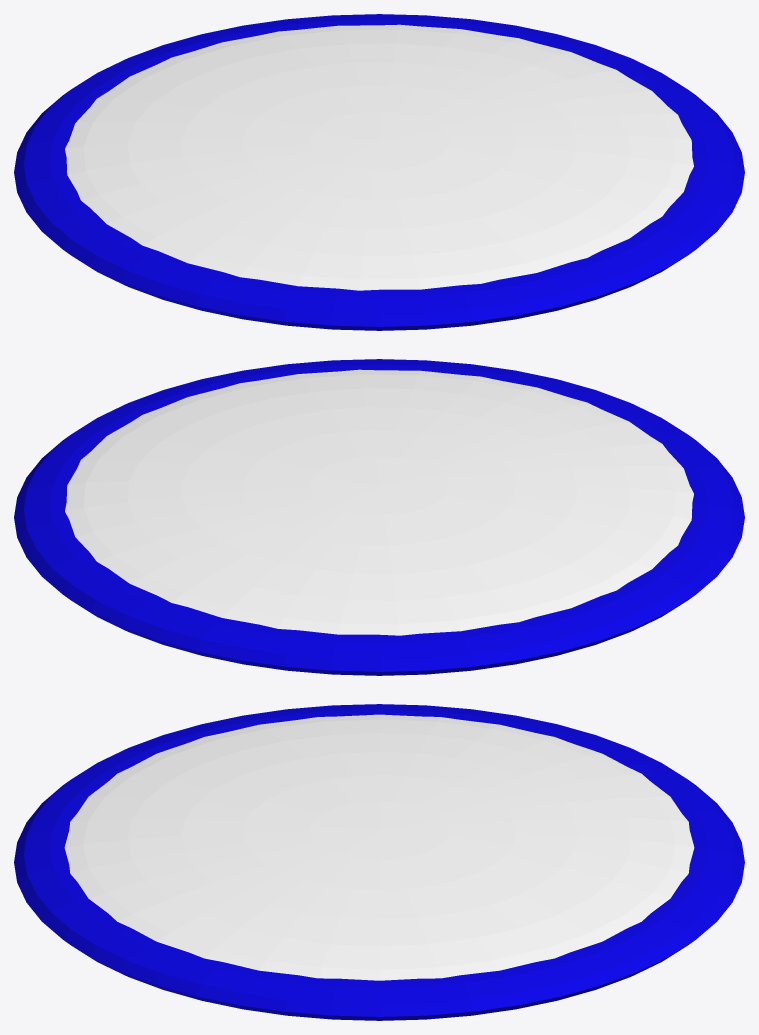
Rendered from GPS.dae.
3 views of the same model, one above another, from view 1: azimuth 30°, elevation 25°; view 2: azimuth 150°, elevation 25°; view 3: azimuth 270°, elevation 25° (orthographic).
Visible parts, largest first — view 1: GPS; view 2: GPS; view 3: GPS.
Boxes of the visible parts, bbox=[...] form: GPS: bbox=[14, 14, 744, 330]; GPS: bbox=[14, 359, 744, 675]; GPS: bbox=[14, 704, 744, 1020].
Size of the model in its own units: 0.205 by 0.205 by 0.02.
